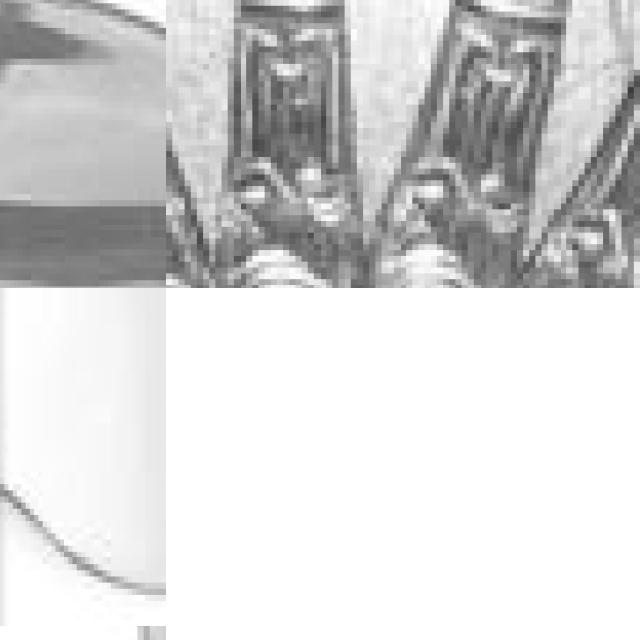forks: (25, 288, 166, 640)
spoons: (0, 0, 166, 288)
